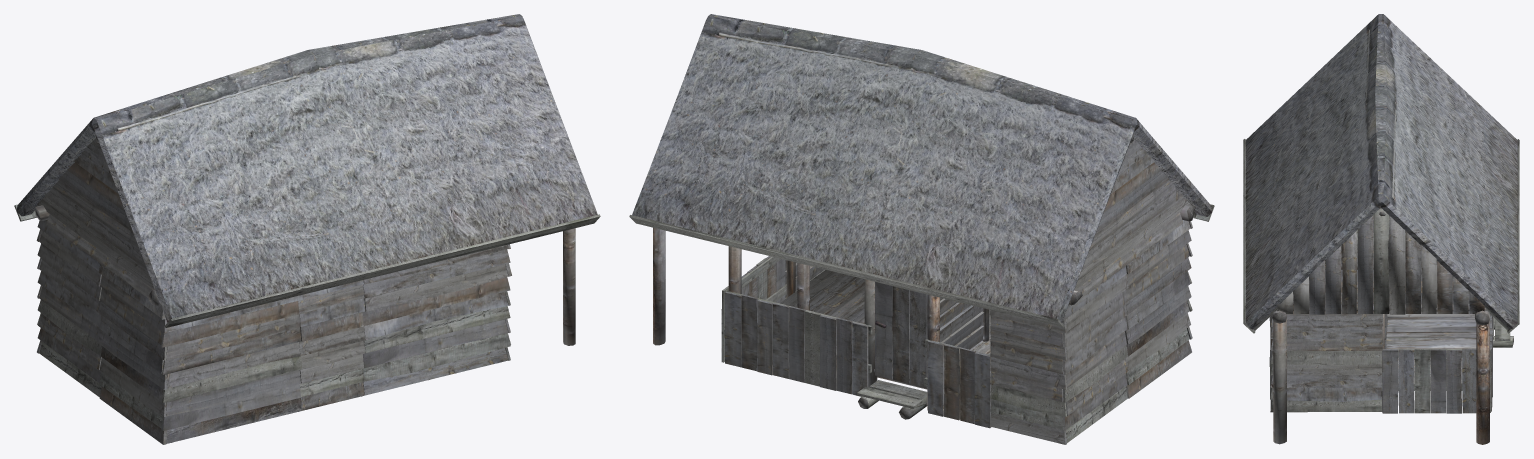
Rendered from woodHouse2.fbx.
The picture shows the model from 3 angles, left to right: view 1: azimuth 30°, elevation 25°; view 2: azimuth 150°, elevation 25°; view 3: azimuth 270°, elevation 25°; orthographic projection. The views are drawn at different scales.
Parts seen in each view (by area): view 1: roof, base; view 2: roof, base, door, steps; view 3: roof, base, steps.
Boxes of the visible parts, bbox=[...] form: roof: bbox=[14, 14, 600, 327]; base: bbox=[35, 138, 575, 444]; roof: bbox=[629, 14, 1214, 327]; base: bbox=[653, 139, 1194, 444]; door: bbox=[875, 282, 927, 387]; steps: bbox=[857, 380, 927, 419]; roof: bbox=[1243, 14, 1519, 333]; base: bbox=[1269, 209, 1492, 444]; steps: bbox=[1493, 317, 1513, 347].
Size of the model in its own units: 13.12 by 8.55 by 8.21.
